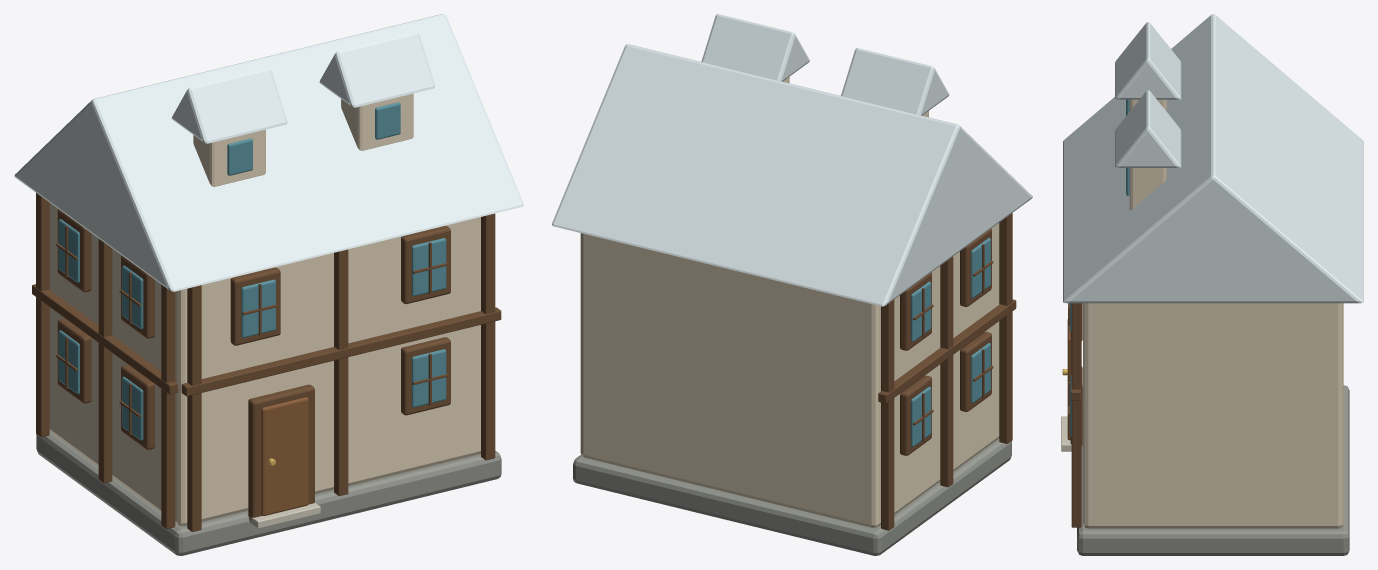
File: snowy-townhouse-0.glb
3 views of the same model, side by side, from view 1: azimuth 30°, elevation 25°; view 2: azimuth 150°, elevation 25°; view 3: azimuth 270°, elevation 25° (orthographic). The views are drawn at different scales.
Visible parts, largest first — view 1: Snow, Warm lime, Dark beams, Foundation stone, Blue glass, Door oak, Cut limestone; view 2: Snow, Warm lime, Dark beams, Foundation stone, Blue glass; view 3: Snow, Warm lime, Foundation stone, Dark beams.
Part boxes in pixels (x1,y1,x2,y2): Snow: [14, 14, 523, 291]; Warm lime: [49, 93, 480, 526]; Dark beams: [32, 193, 501, 531]; Foundation stone: [36, 431, 501, 555]; Blue glass: [58, 102, 446, 440]; Door oak: [261, 397, 308, 515]; Cut limestone: [247, 503, 320, 528]; Snow: [552, 14, 1032, 306]; Warm lime: [580, 77, 999, 527]; Dark beams: [878, 213, 1016, 530]; Foundation stone: [573, 438, 1011, 555]; Blue glass: [911, 238, 990, 446]; Snow: [1063, 14, 1363, 303]; Warm lime: [1083, 99, 1343, 528]; Foundation stone: [1077, 385, 1349, 555]; Dark beams: [1068, 303, 1082, 527].
Bounding box in the file's own units: 3.94 × 4.59 × 3.07.
